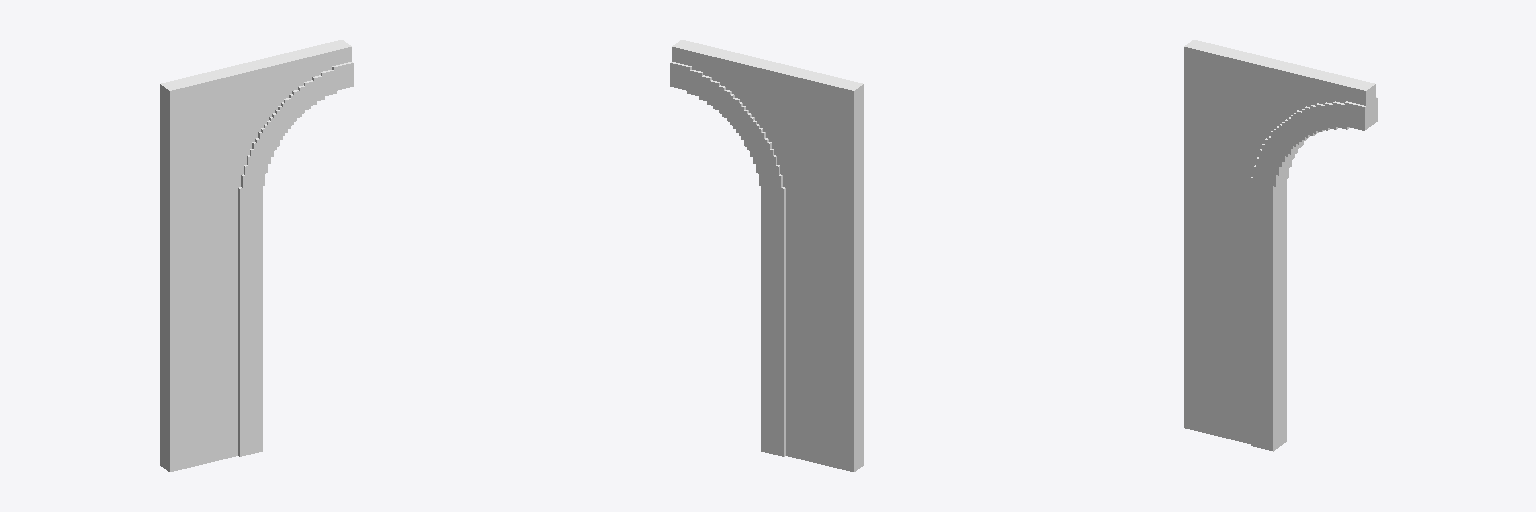
File: Doorway_2.obj
The picture shows the model from 3 angles: view 1: azimuth 30°, elevation 25°; view 2: azimuth 150°, elevation 25°; view 3: azimuth 330°, elevation 25°; orthographic projection.
Visible parts, largest first — view 1: Doorway_2_-10; view 2: Doorway_2_-10; view 3: Doorway_2_-10.
Part boxes in pixels (x1,y1,x2,y2): Doorway_2_-10: (160,40,353,471); Doorway_2_-10: (670,40,863,471); Doorway_2_-10: (1184,40,1377,451).
Bounding box in the file's own units: 1 × 2 × 0.125.